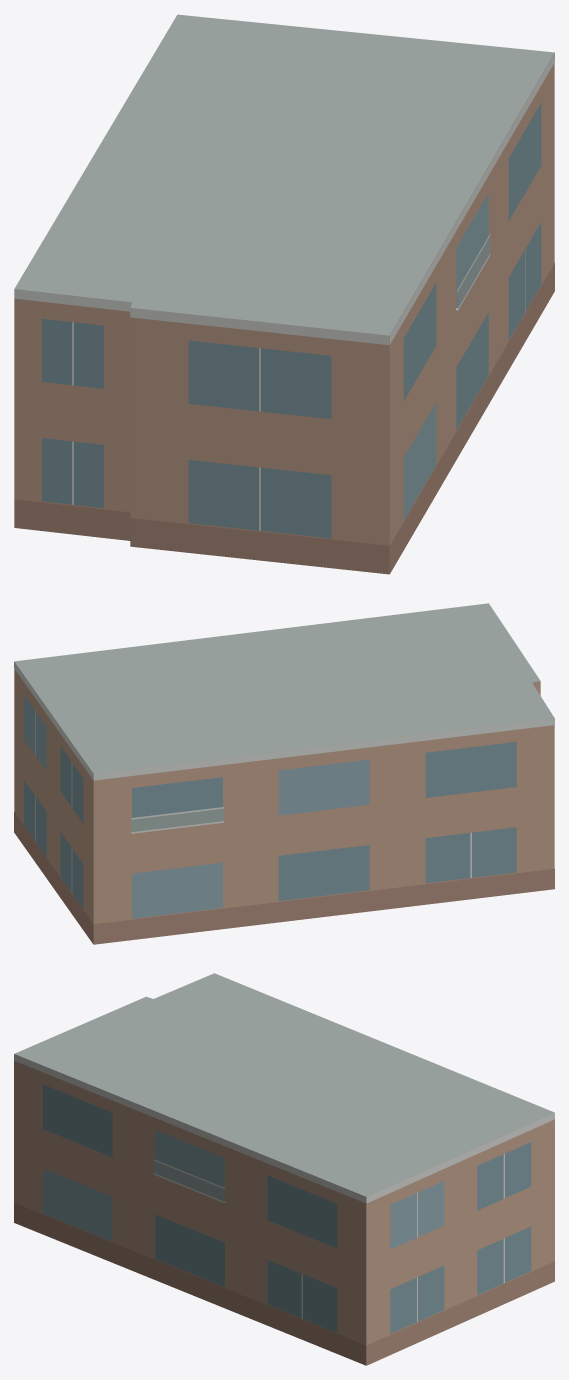
Rendered from survey-upis-32462540.glb.
3 renders of one model, top to bottom at view 1: azimuth 30°, elevation 25°; view 2: azimuth 150°, elevation 25°; view 3: azimuth 270°, elevation 25°, orthographic. The views are drawn at different scales.
Parts seen in each view (by area): view 1: survey-upis-32462540.tmp; view 2: survey-upis-32462540.tmp; view 3: survey-upis-32462540.tmp.
Boxes of the visible parts, left/top/right/bottom form: survey-upis-32462540.tmp: left=14, top=14, right=554, bottom=574; survey-upis-32462540.tmp: left=14, top=603, right=554, bottom=944; survey-upis-32462540.tmp: left=14, top=973, right=554, bottom=1365.
Bounding box in the file's own units: 17.34 × 6.1 × 17.71.
